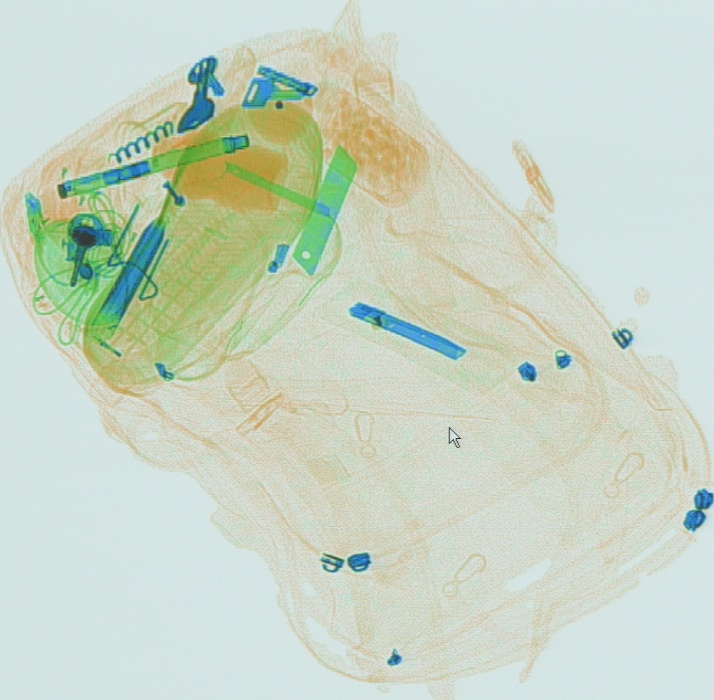knife: (291, 140, 359, 277), (347, 302, 466, 361)
